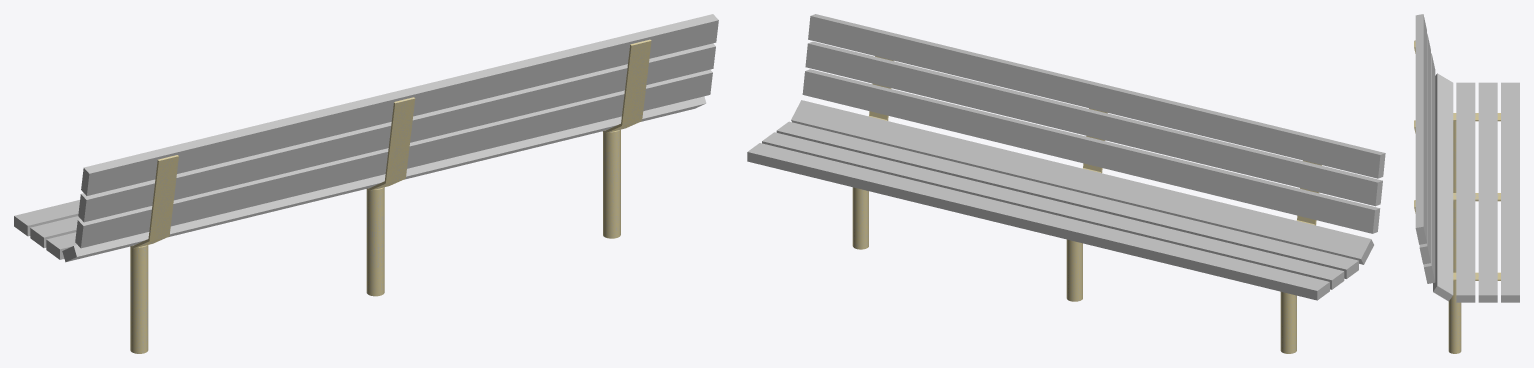
3 renders of one model, left to right at view 1: azimuth 30°, elevation 25°; view 2: azimuth 150°, elevation 25°; view 3: azimuth 270°, elevation 25°, orthographic. The views are drawn at different scales.
Parts seen in each view (by area): view 1: mesh13_mesh13-geometry, mesh7_mesh7-geometry, mesh8_mesh8-geometry, mesh9_mesh9-geometry, mesh2_mesh2-geometry, mesh3_mesh3-geometry, mesh6_mesh6-geometry, mesh1_mesh1-geometry, mesh5_mesh5-geometry, mesh4_mesh4-geometry, mesh10_mesh10-geometry, mesh12_mesh12-geometry; view 2: mesh7_mesh7-geometry, mesh13_mesh13-geometry, mesh8_mesh8-geometry, mesh9_mesh9-geometry, mesh10_mesh10-geometry, mesh12_mesh12-geometry, mesh11_mesh11-geometry, mesh2_mesh2-geometry, mesh6_mesh6-geometry, mesh3_mesh3-geometry; view 3: mesh11_mesh11-geometry, mesh12_mesh12-geometry, mesh9_mesh9-geometry, mesh10_mesh10-geometry, mesh13_mesh13-geometry, mesh8_mesh8-geometry, mesh7_mesh7-geometry, mesh6_mesh6-geometry, mesh2_mesh2-geometry, mesh3_mesh3-geometry, mesh1_mesh1-geometry, mesh4_mesh4-geometry (+1 smaller).
Boxes of the visible parts, x1,y1,x2,y2 form: mesh13_mesh13-geometry: [81, 14, 718, 195]; mesh7_mesh7-geometry: [78, 43, 715, 222]; mesh8_mesh8-geometry: [75, 69, 712, 248]; mesh9_mesh9-geometry: [62, 96, 706, 262]; mesh2_mesh2-geometry: [366, 187, 384, 296]; mesh3_mesh3-geometry: [130, 245, 148, 353]; mesh6_mesh6-geometry: [603, 129, 620, 238]; mesh1_mesh1-geometry: [367, 97, 415, 190]; mesh5_mesh5-geometry: [603, 39, 651, 133]; mesh4_mesh4-geometry: [130, 155, 178, 248]; mesh10_mesh10-geometry: [14, 200, 79, 236]; mesh12_mesh12-geometry: [30, 216, 80, 247]; mesh7_mesh7-geometry: [805, 41, 1382, 206]; mesh13_mesh13-geometry: [808, 14, 1385, 178]; mesh8_mesh8-geometry: [802, 69, 1380, 233]; mesh9_mesh9-geometry: [791, 100, 1373, 264]; mesh10_mesh10-geometry: [747, 143, 1329, 300]; mesh12_mesh12-geometry: [762, 132, 1344, 289]; mesh11_mesh11-geometry: [776, 121, 1358, 278]; mesh2_mesh2-geometry: [1066, 239, 1082, 301]; mesh6_mesh6-geometry: [852, 187, 868, 249]; mesh3_mesh3-geometry: [1280, 292, 1296, 353]; mesh11_mesh11-geometry: [1456, 82, 1475, 302]; mesh12_mesh12-geometry: [1478, 82, 1497, 302]; mesh9_mesh9-geometry: [1433, 73, 1453, 301]; mesh10_mesh10-geometry: [1501, 82, 1519, 302]; mesh13_mesh13-geometry: [1415, 14, 1426, 244]; mesh8_mesh8-geometry: [1423, 53, 1435, 283]; mesh7_mesh7-geometry: [1419, 33, 1430, 264]; mesh6_mesh6-geometry: [1448, 281, 1461, 353]; mesh2_mesh2-geometry: [1453, 201, 1456, 272]; mesh3_mesh3-geometry: [1453, 121, 1456, 192]; mesh1_mesh1-geometry: [1414, 120, 1500, 201]; mesh4_mesh4-geometry: [1414, 40, 1500, 121].
Size of the model in its own units: 0.92 by 0.305 by 0.1934.
